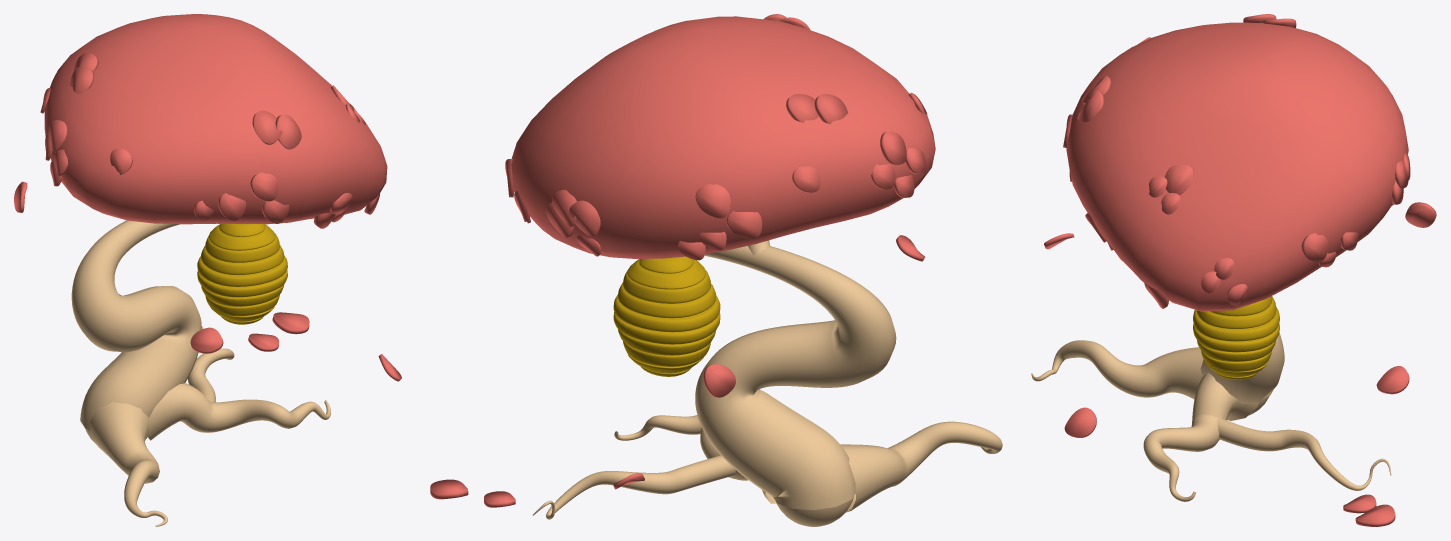
Rendered from BijenBoomContext2.fbx.
3 renders of one model, left to right at view 1: azimuth 30°, elevation 25°; view 2: azimuth 150°, elevation 25°; view 3: azimuth 270°, elevation 25°, orthographic. The views are drawn at different scales.
Visible parts, largest first — view 1: Sphere; view 2: Sphere; view 3: Sphere.
Part boxes in pixels (left/top/right/bottom): Sphere: left=14, top=14, right=401, bottom=526; Sphere: left=430, top=14, right=1002, bottom=526; Sphere: left=1031, top=14, right=1436, bottom=526.
Bounding box in the file's own units: 87.45 × 98.51 × 88.68.
